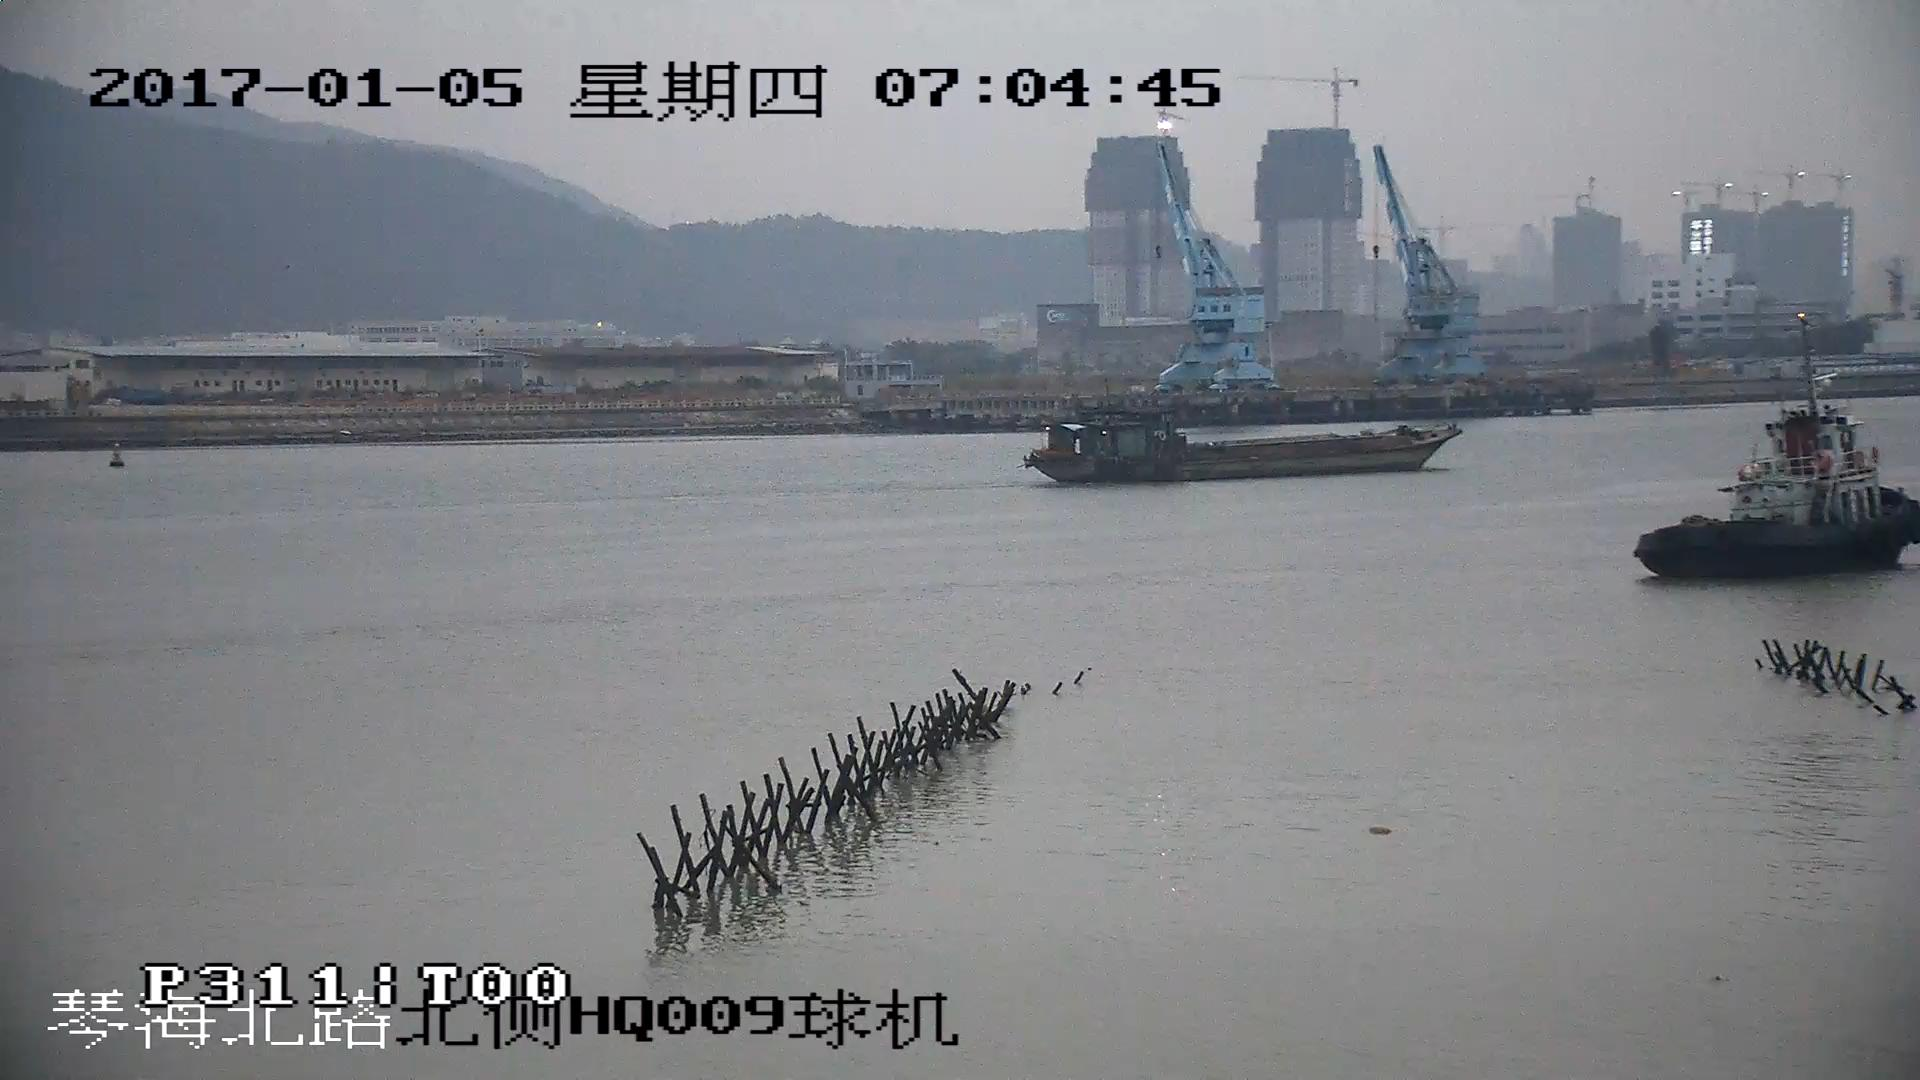bulk cargo carrier: (1031, 421, 1470, 487)
